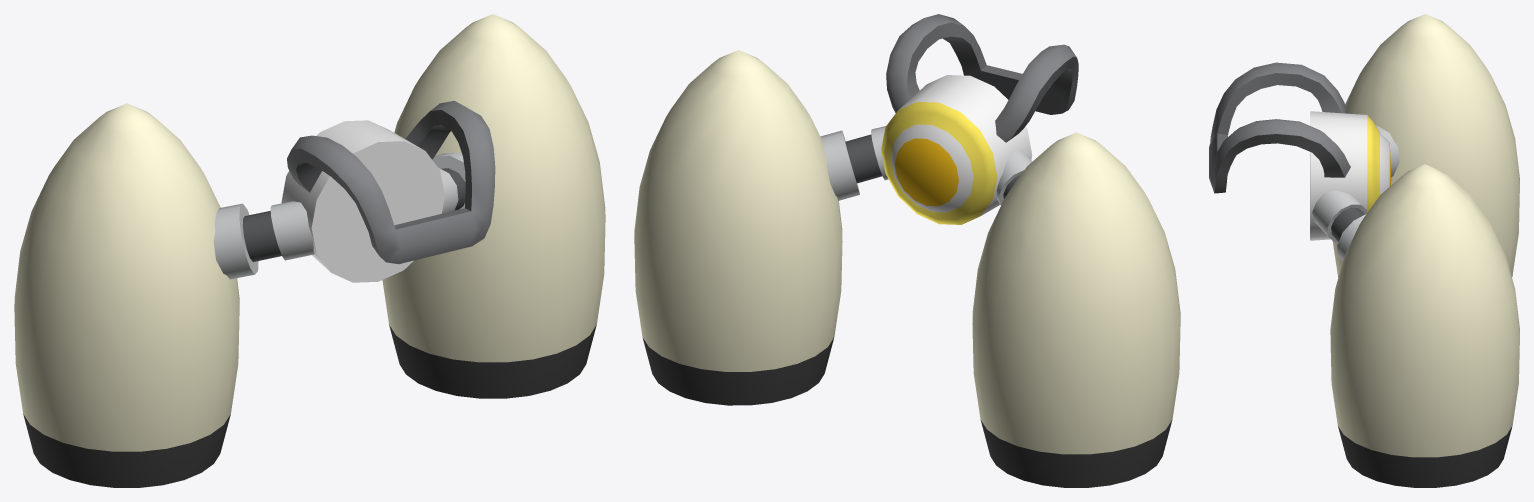
File: Rocketjumper.fbx
3 renders of one model, left to right at view 1: azimuth 30°, elevation 25°; view 2: azimuth 150°, elevation 25°; view 3: azimuth 270°, elevation 25°, orthographic. The views are drawn at different scales.
Parts seen in each view (by area): view 1: rocketjumper; view 2: rocketjumper; view 3: rocketjumper.
Boxes of the visible parts, <box> form: rocketjumper: <box>14,14,605,487</box>; rocketjumper: <box>634,14,1180,487</box>; rocketjumper: <box>1209,14,1519,487</box>.
Bounding box in the file's own units: 122 × 71.98 × 69.81.
1 material, 1 textured.
